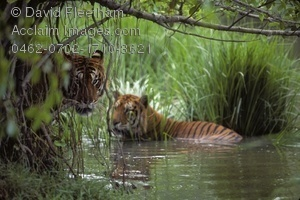tigre: (107, 89, 243, 152), (31, 52, 106, 118)
